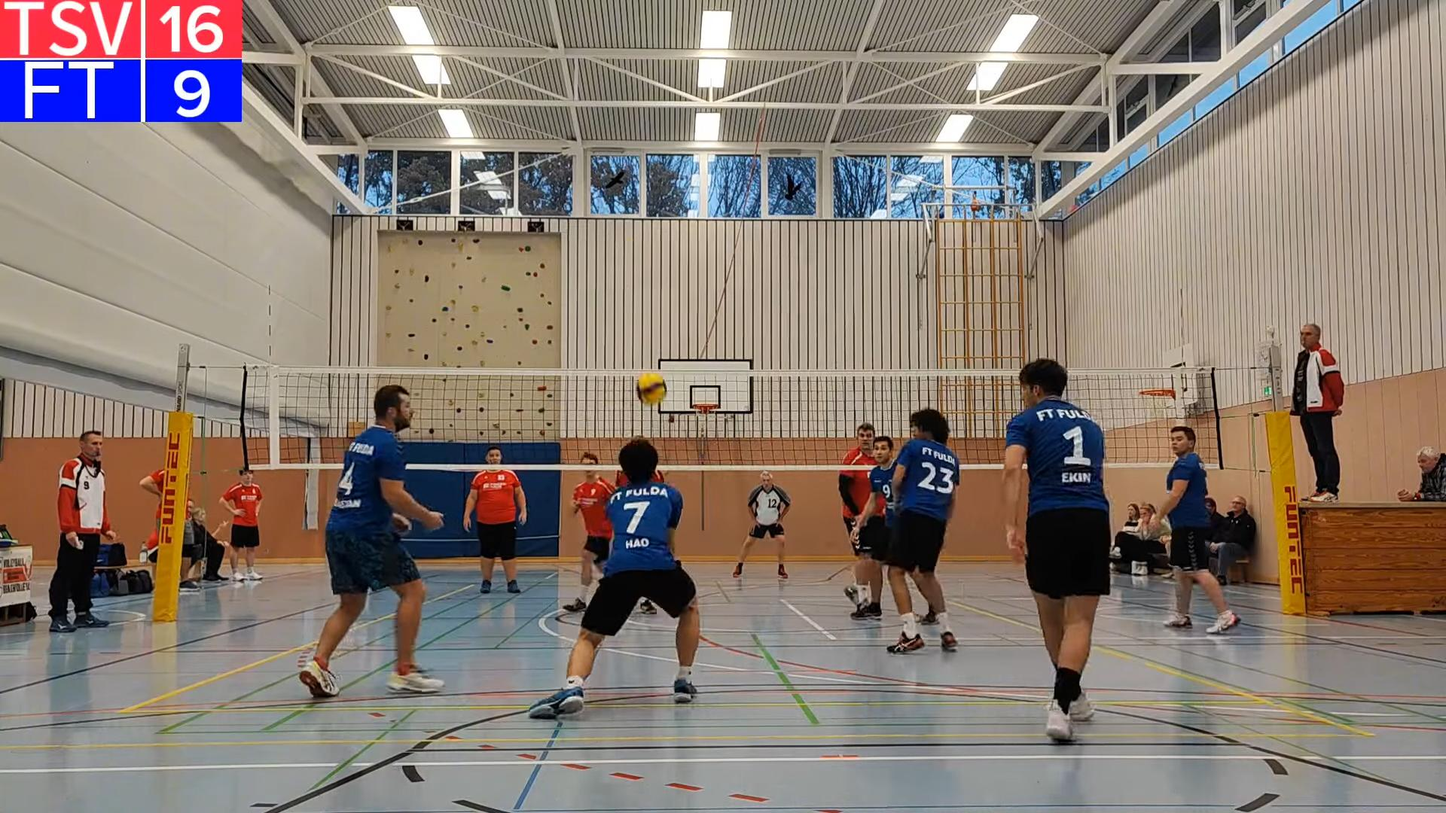ricezione: (546, 437, 711, 702)
